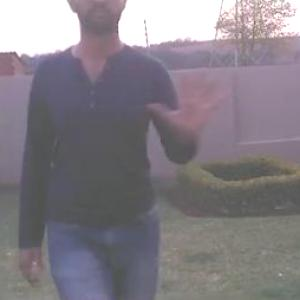follow_hand: (149, 62, 234, 140)
